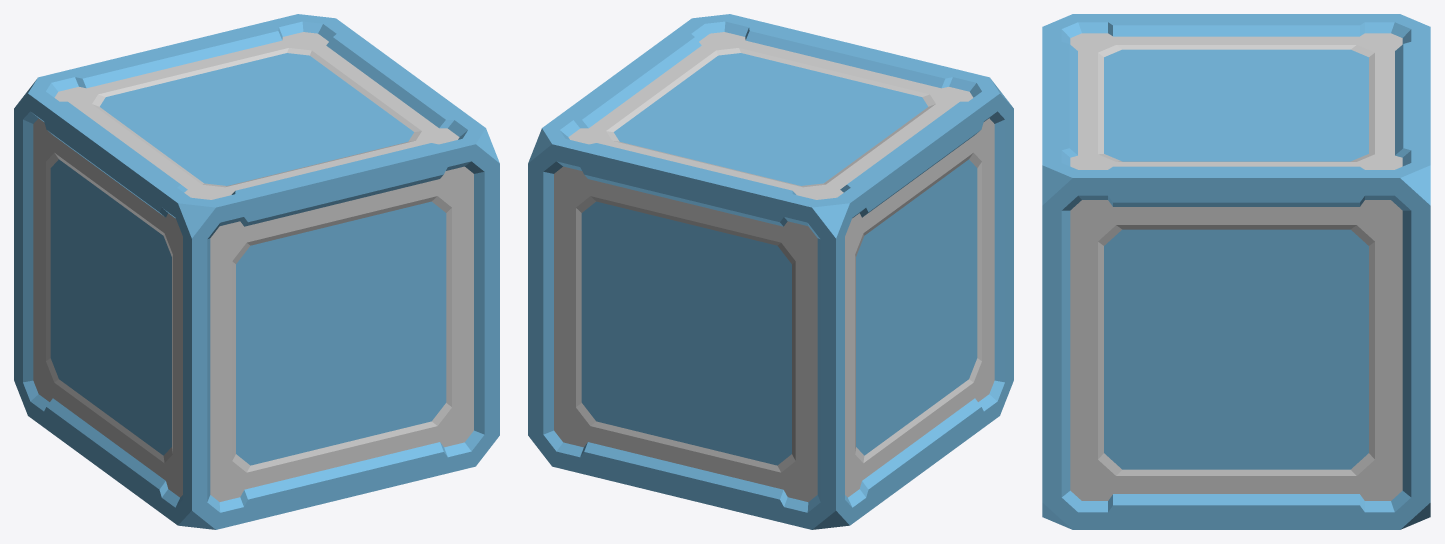
The model's file is crate blue big.fbx.
3 renders of one model, left to right at view 1: azimuth 30°, elevation 25°; view 2: azimuth 150°, elevation 25°; view 3: azimuth 270°, elevation 25°, orthographic. The views are drawn at different scales.
Parts seen in each view (by area): view 1: Crate Large.004; view 2: Crate Large.004; view 3: Crate Large.004.
Part boxes in pixels (box(x1,y1,x2,y2)): Crate Large.004: box(14, 14, 499, 529); Crate Large.004: box(528, 14, 1013, 529); Crate Large.004: box(1042, 14, 1430, 529).
Size of the model in its own units: 100 by 100 by 100.
